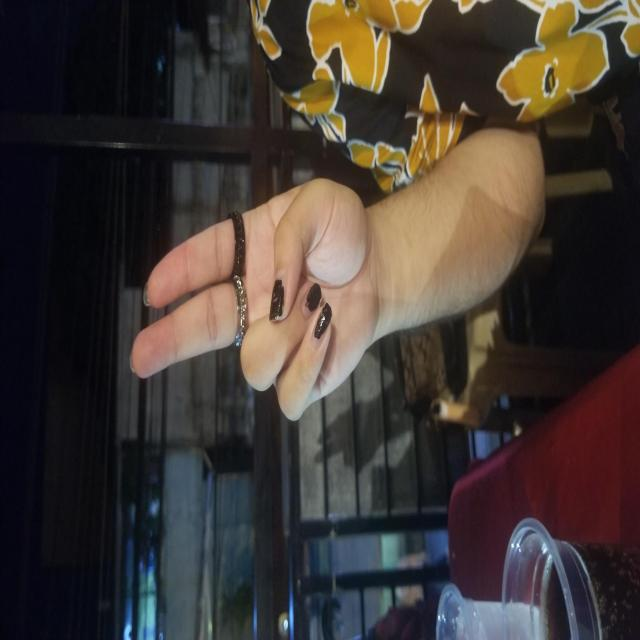U: (222, 129, 462, 374)
